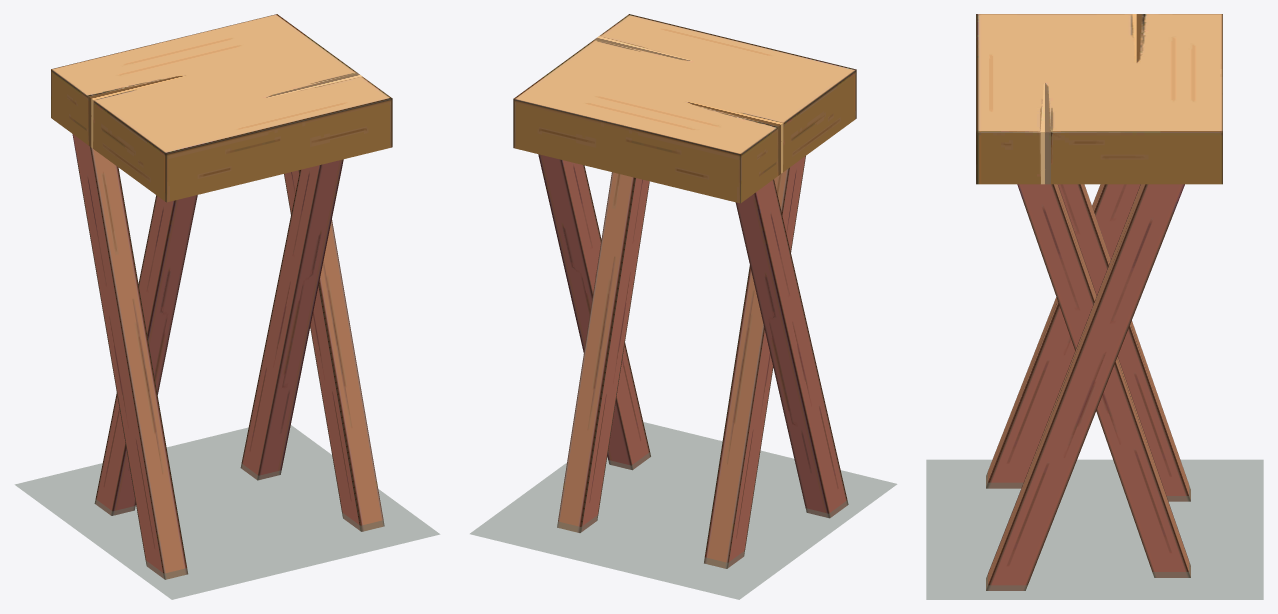
Rendered from DonutLand_Chair.glb.
The picture shows the model from 3 angles, left to right: view 1: azimuth 30°, elevation 25°; view 2: azimuth 150°, elevation 25°; view 3: azimuth 270°, elevation 25°; orthographic projection. The views are drawn at different scales.
Visible parts, largest first — view 1: Donutland_Chair_01, Chair_Shadow; view 2: Donutland_Chair_01, Chair_Shadow; view 3: Donutland_Chair_01, Chair_Shadow.
Boxes of the visible parts, left/top/right/bottom form: Donutland_Chair_01: left=51, top=14, right=392, bottom=579; Chair_Shadow: left=15, top=425, right=439, bottom=599; Donutland_Chair_01: left=513, top=14, right=856, bottom=568; Chair_Shadow: left=470, top=422, right=896, bottom=599; Donutland_Chair_01: left=976, top=14, right=1222, bottom=590; Chair_Shadow: left=926, top=459, right=1263, bottom=599.
Bounding box in the file's own units: 1.28 × 1.95 × 1.3.
2 materials, 2 textured.
